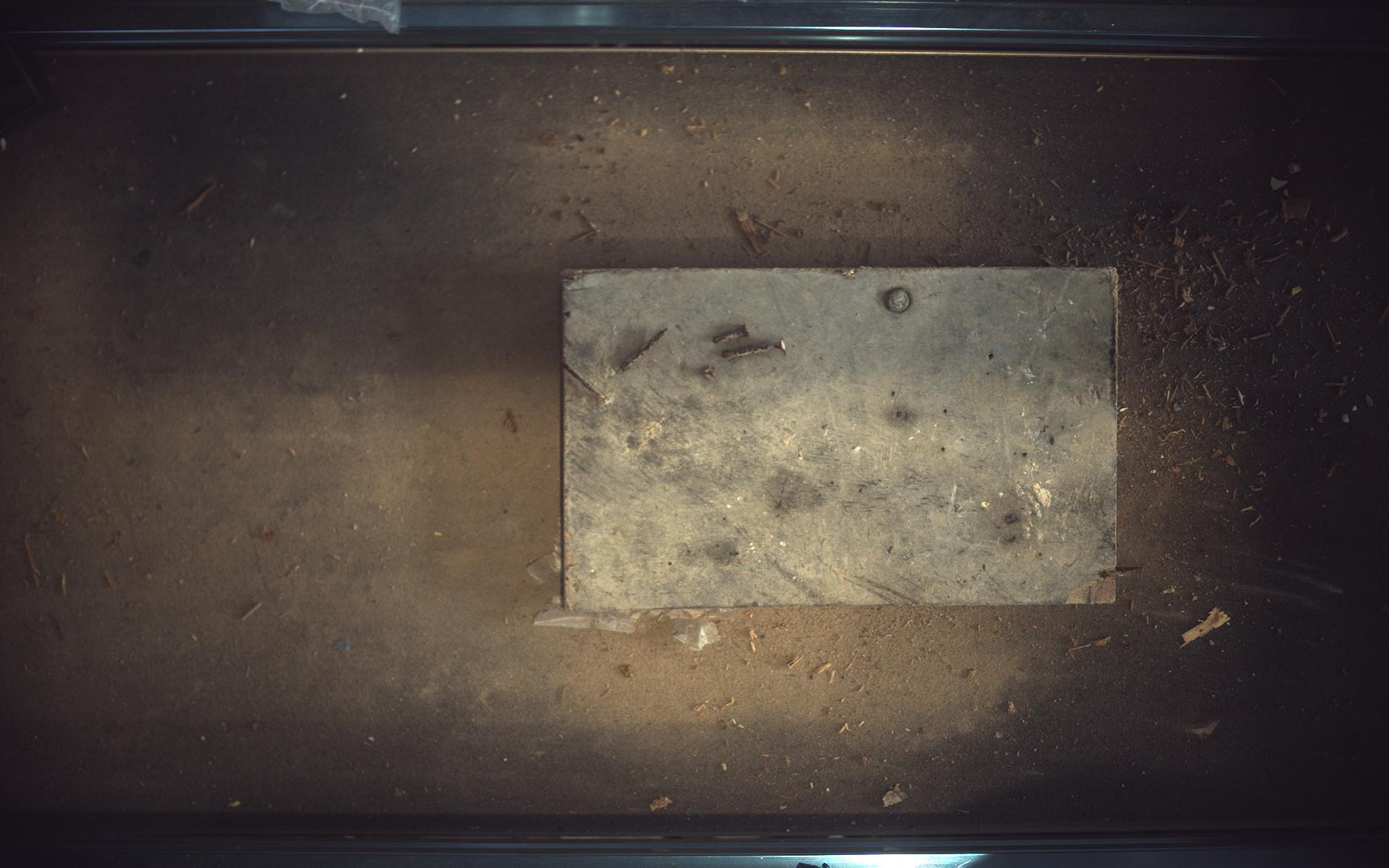wood: (535, 268, 1121, 629)
